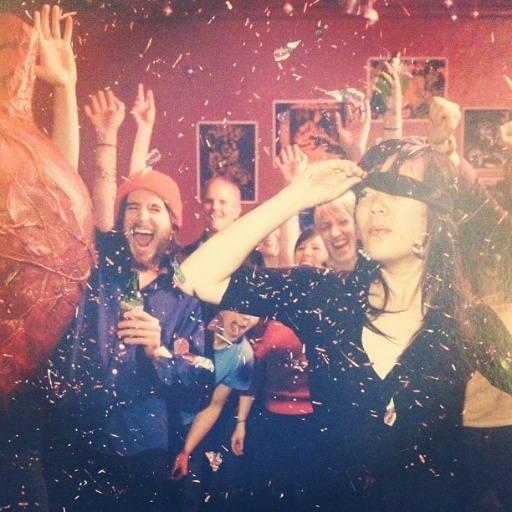hand: (286, 153, 374, 202), (32, 0, 79, 86), (115, 306, 162, 359), (332, 96, 371, 153), (81, 87, 124, 133), (422, 95, 461, 143), (370, 71, 403, 119), (272, 140, 308, 181), (130, 81, 157, 128), (166, 449, 189, 480), (230, 426, 246, 458)
